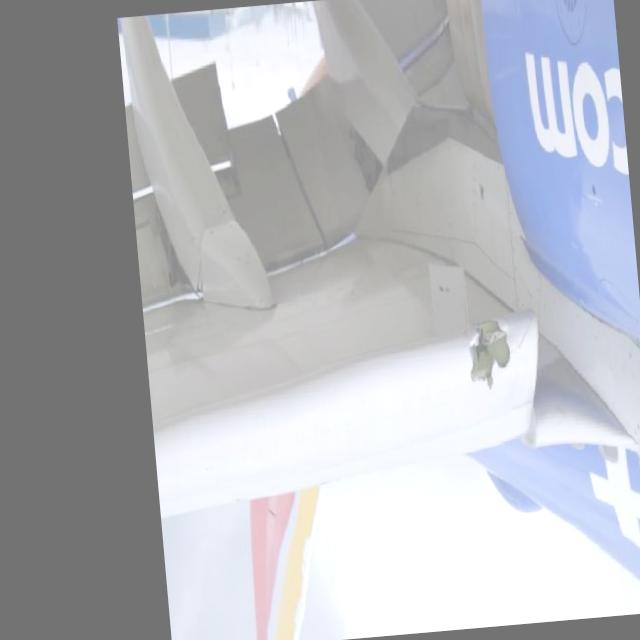crack: (462, 318, 514, 390)
